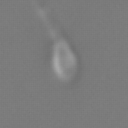normal: (28, 1, 66, 43)
